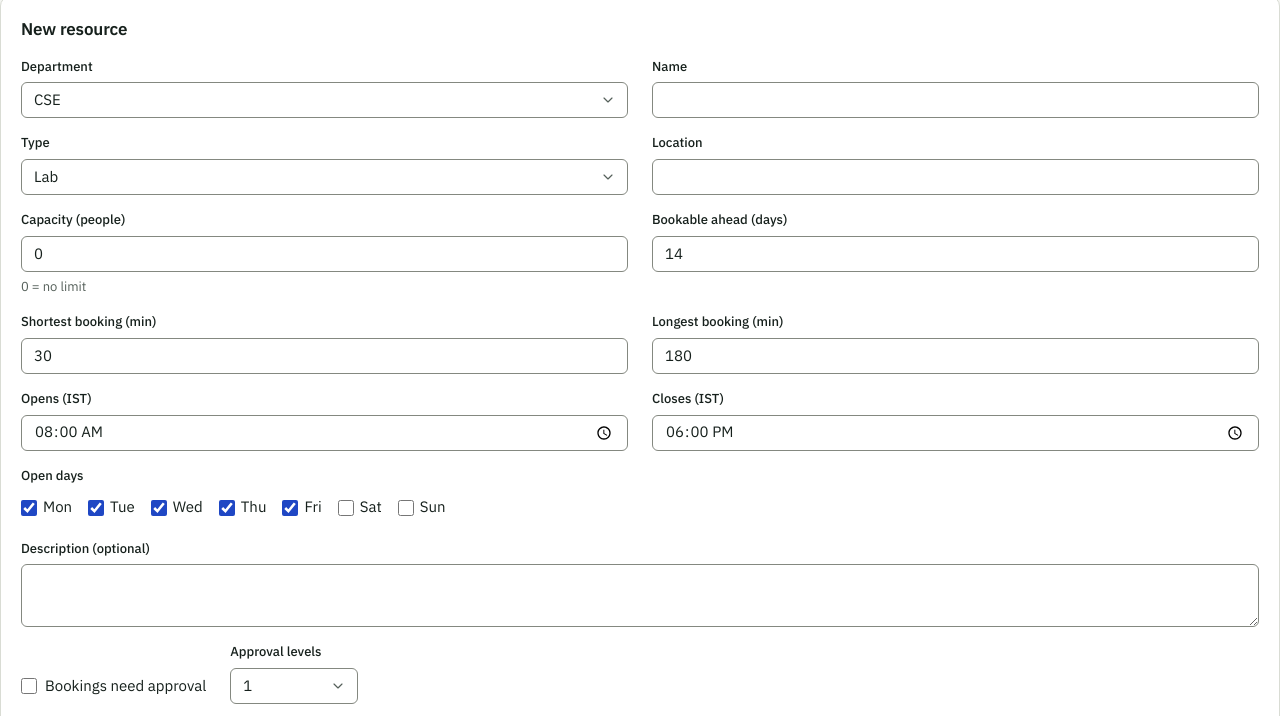
Test: ResourceForm validation › shows the server's refusal in plain words
Type "Systems Lab" into the field labelled "Name" at [956, 100], box x1=652 y1=82 x2=1259 y2=118
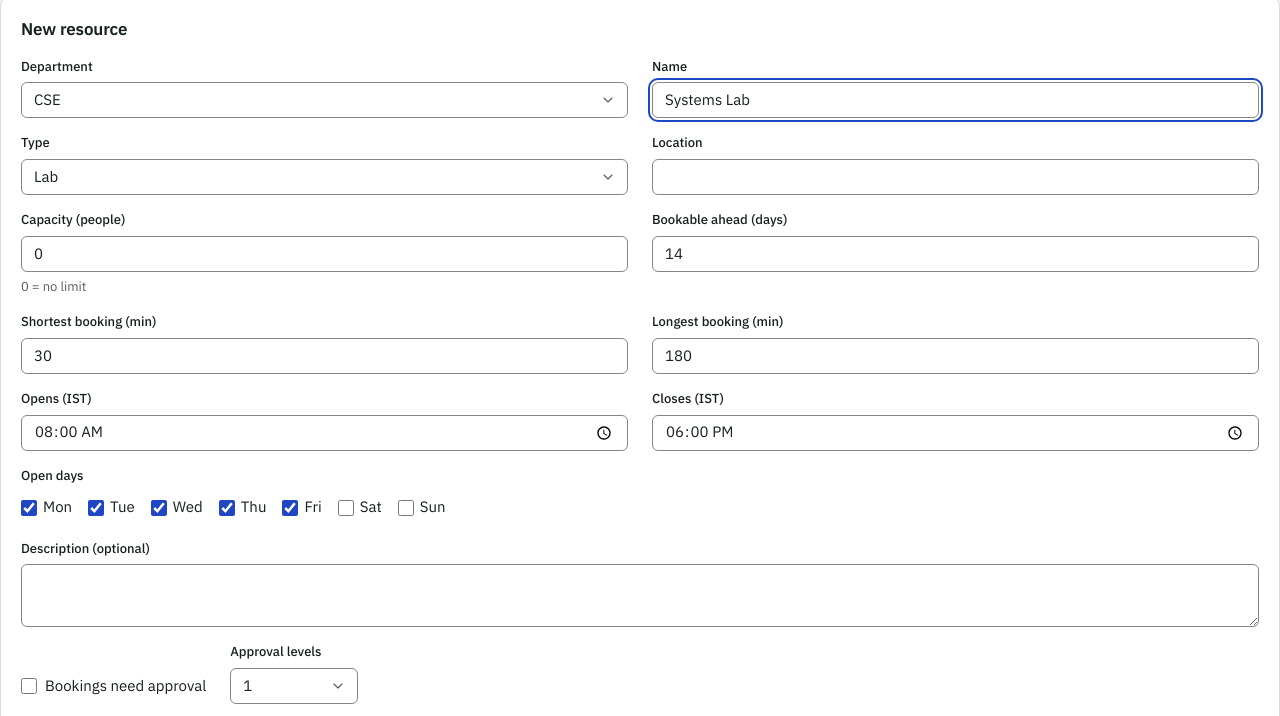
Type "Block A" into the field labelled "Location" at [956, 177], box x1=652 y1=159 x2=1259 y2=195
(page scrolled)
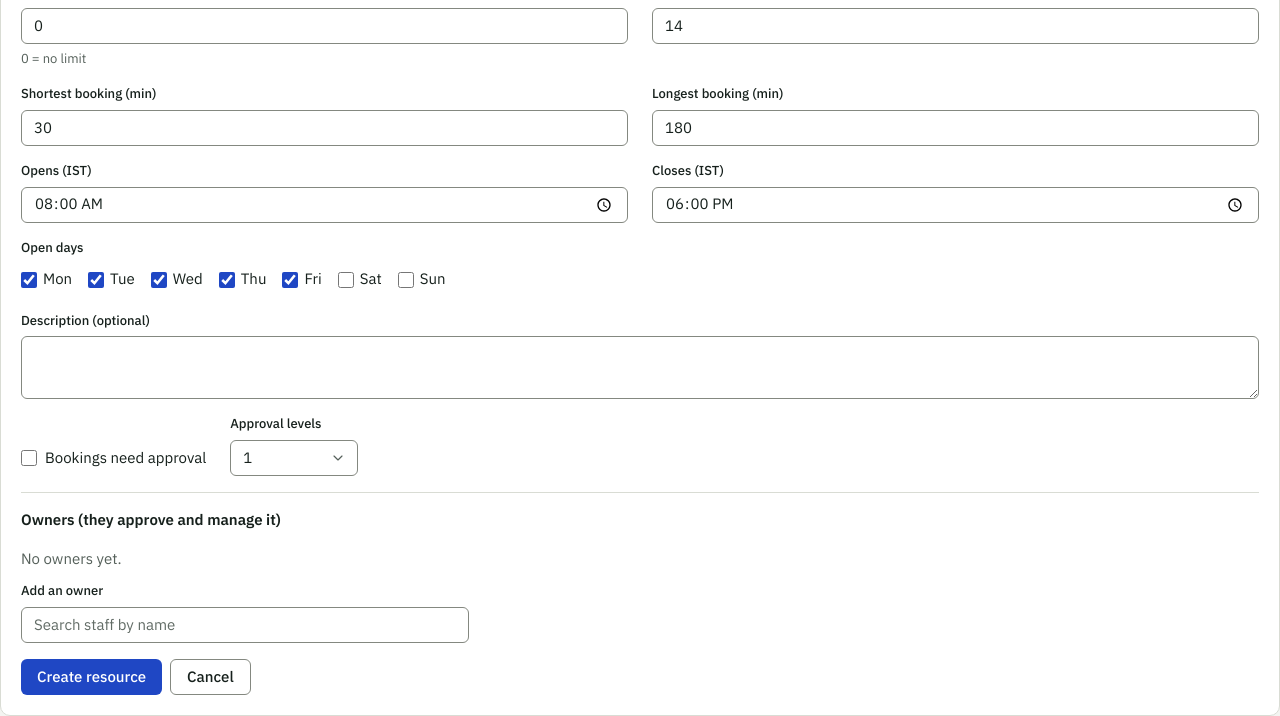
Click the button "Create resource" at [92, 677], box x1=21 y1=659 x2=162 y2=695
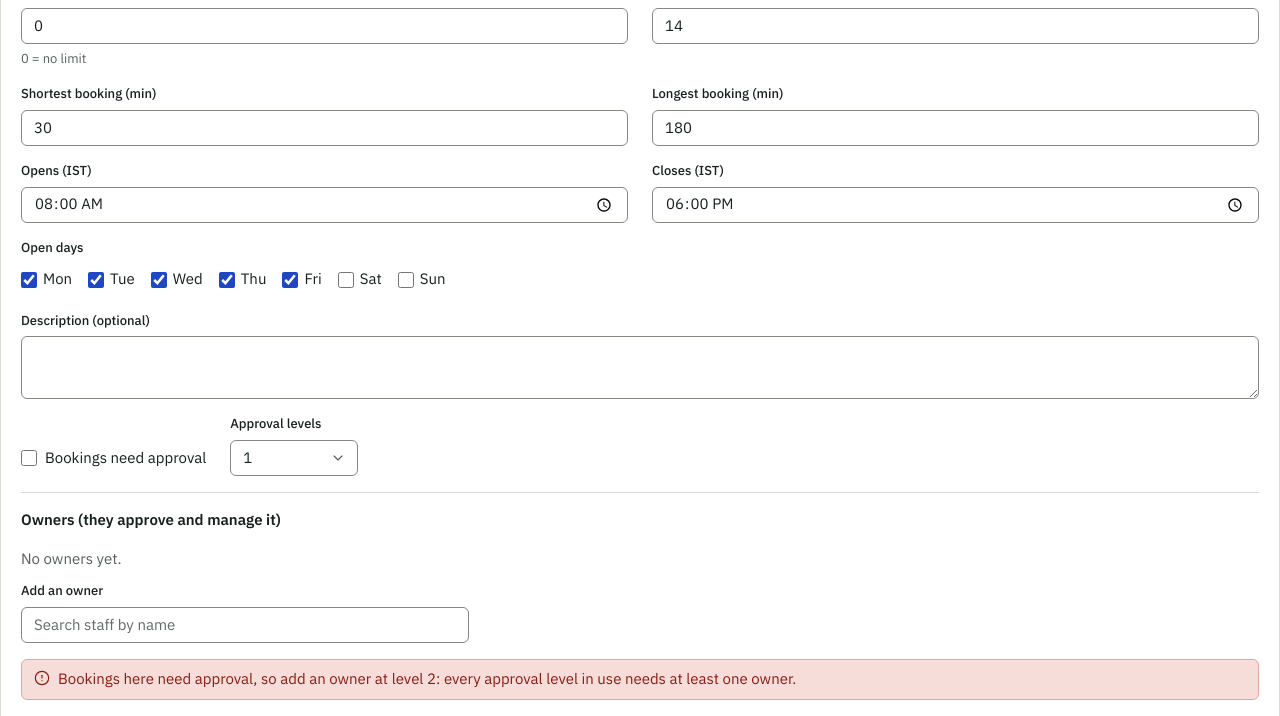
Check: the text "Bookings here need approval, so add an owner at level 2: every approval level in use needs at least one owner." is shown, box x1=58 y1=669 x2=796 y2=688
